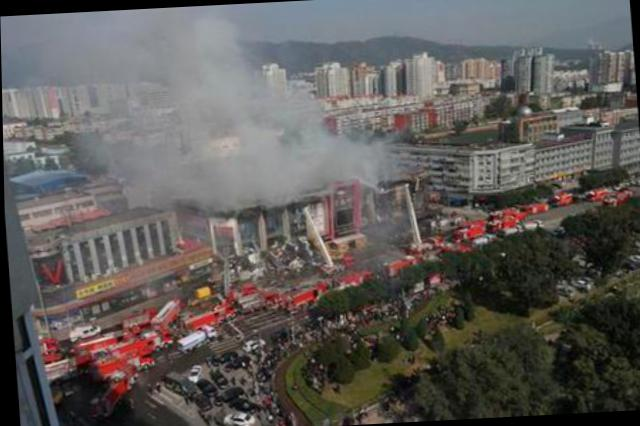smoke: (185, 128, 394, 211), (164, 72, 320, 142), (113, 140, 187, 224), (167, 13, 249, 78)
